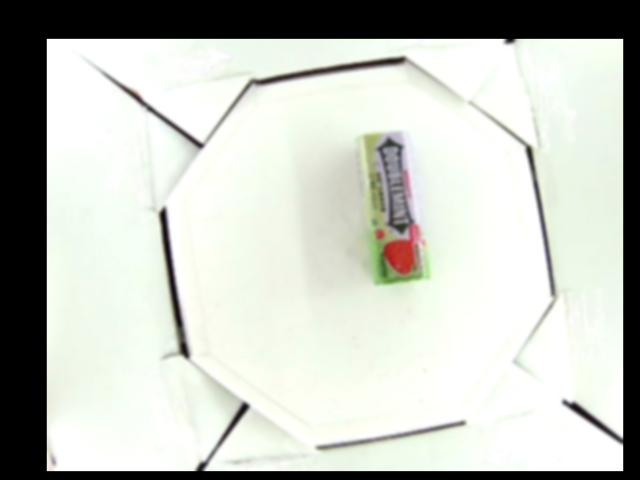Bottle: (356, 129, 432, 285)
